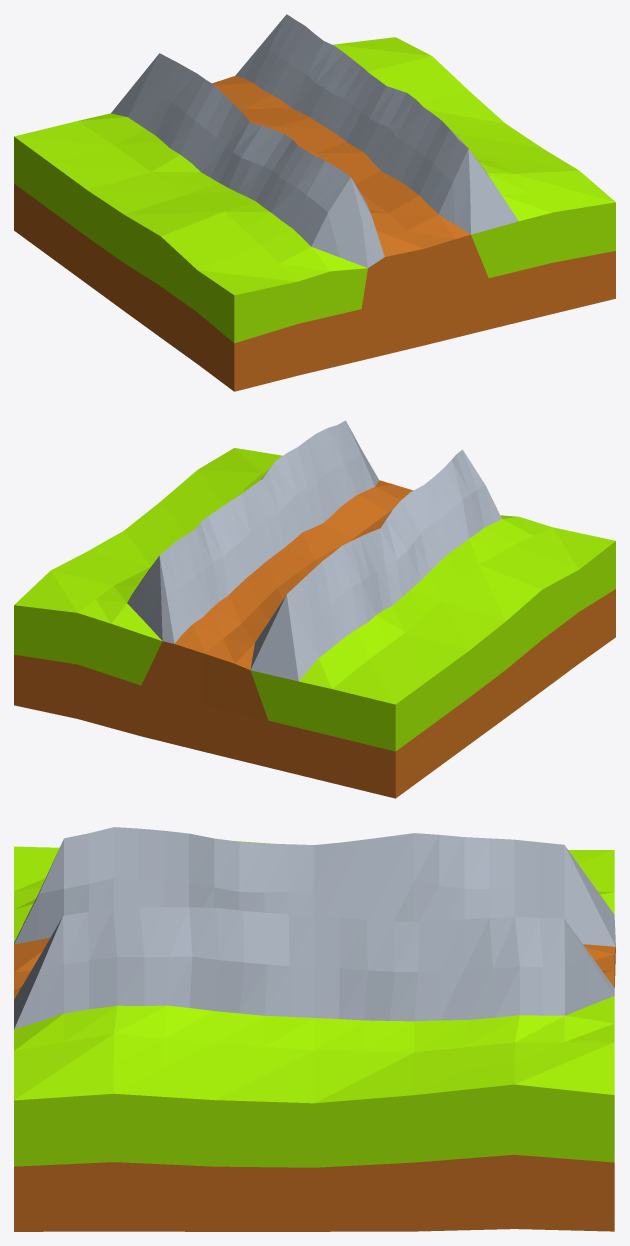
Rendered from CREVASSE_roche-terre.fbx.
The picture shows the model from 3 angles, top to bottom: view 1: azimuth 30°, elevation 25°; view 2: azimuth 150°, elevation 25°; view 3: azimuth 270°, elevation 25°; orthographic projection. The views are drawn at different scales.
Parts seen in each view (by area): view 1: herbe.006; view 2: herbe.006; view 3: herbe.006.
Part boxes in pixels (bbox=[...]): herbe.006: bbox=[14, 14, 615, 391]; herbe.006: bbox=[14, 420, 615, 798]; herbe.006: bbox=[14, 827, 615, 1231].
Bounding box in the file's own units: 5 × 2.2 × 5.01.
